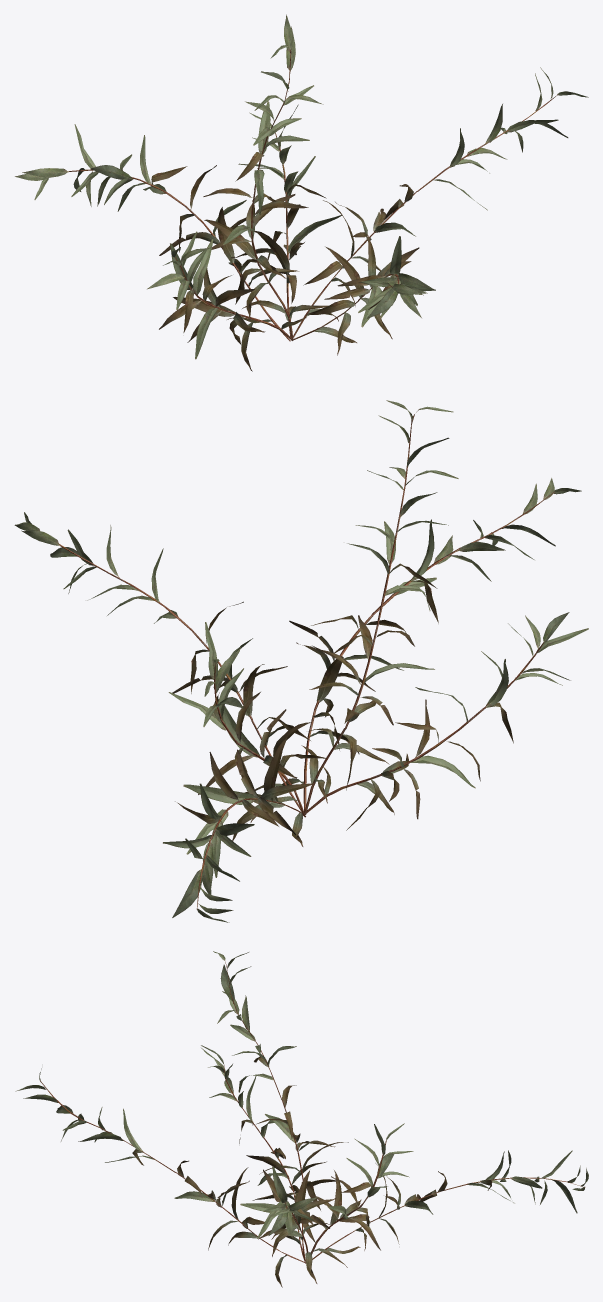
Rendered from shrub_02_c.glb.
3 renders of one model, top to bottom at view 1: azimuth 30°, elevation 25°; view 2: azimuth 150°, elevation 25°; view 3: azimuth 270°, elevation 25°, orthographic. The views are drawn at different scales.
Visible parts, largest first — view 1: shrub_02_c; view 2: shrub_02_c; view 3: shrub_02_c.
Boxes of the visible parts, <box> form: shrub_02_c: <box>15,14,588,371</box>; shrub_02_c: <box>14,400,588,922</box>; shrub_02_c: <box>15,951,588,1287</box>.
Size of the model in its own units: 1.77 by 1.32 by 2.29.
1 material, 1 textured.
